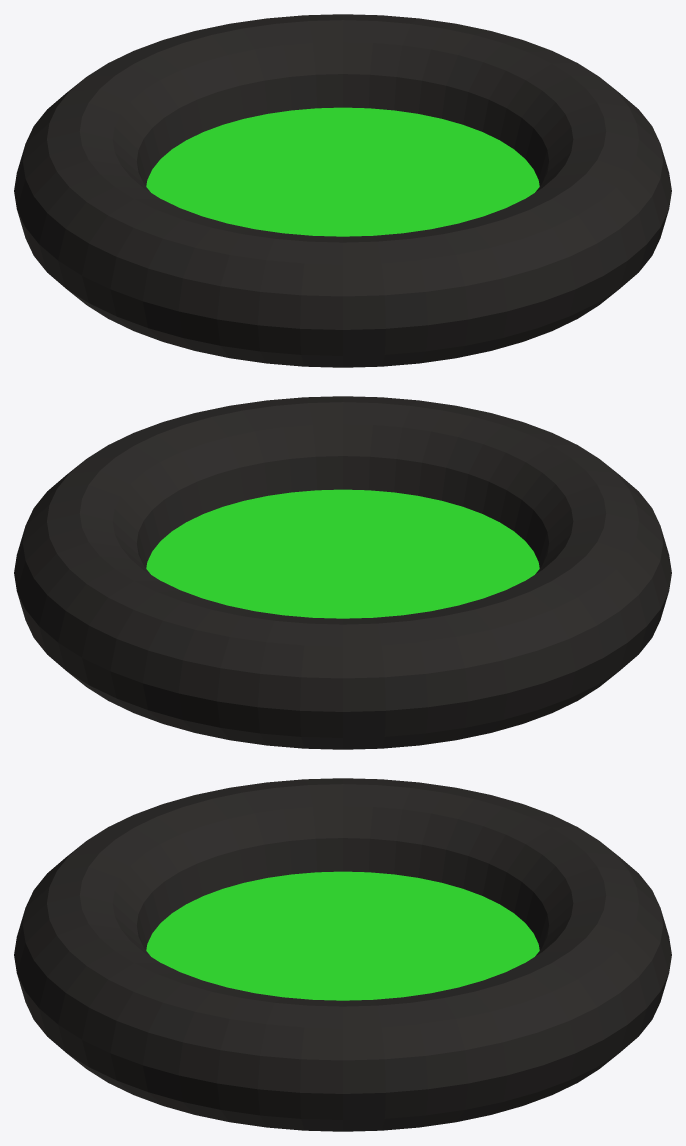
File: base_world.glb
3 views of the same model, one above another, from view 1: azimuth 30°, elevation 25°; view 2: azimuth 150°, elevation 25°; view 3: azimuth 270°, elevation 25° (orthographic).
Parts seen in each view (by area): view 1: Torus, Plane; view 2: Torus, Plane; view 3: Torus, Plane.
Part boxes in pixels (box(x1,y1,x2,y2)): Torus: box(14, 14, 671, 367); Plane: box(146, 107, 539, 236); Torus: box(14, 396, 671, 749); Plane: box(146, 489, 539, 618); Torus: box(14, 778, 671, 1131); Plane: box(146, 871, 539, 1000).
Size of the model in its own units: 32.56 by 6.51 by 32.56.
